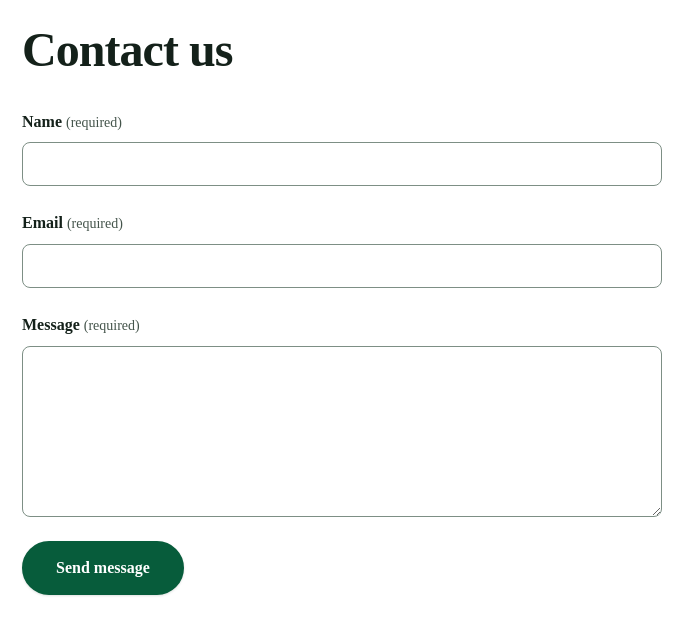
ContactForm › shows an error for each empty field and focuses the first one
Click the button "Send message" at (103, 568), box [22,541,184,595]
(page scrolled)
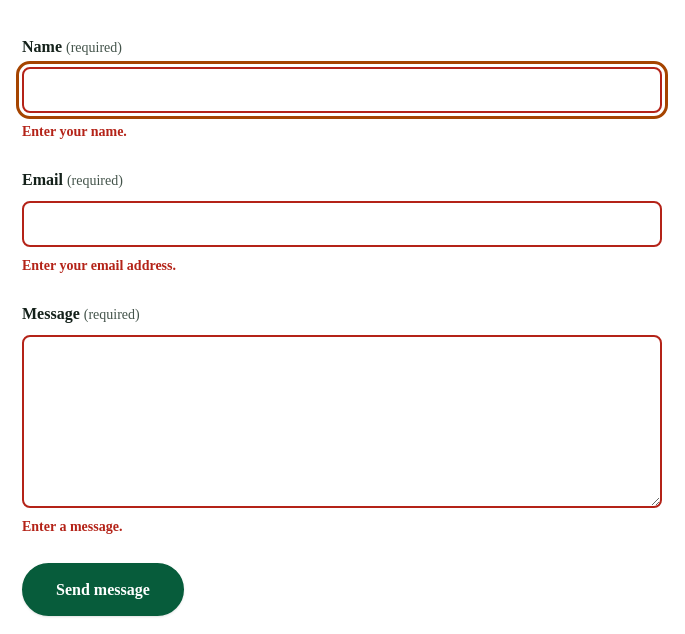
Now the text "Enter your name." is shown, box [22,124,127,139]
